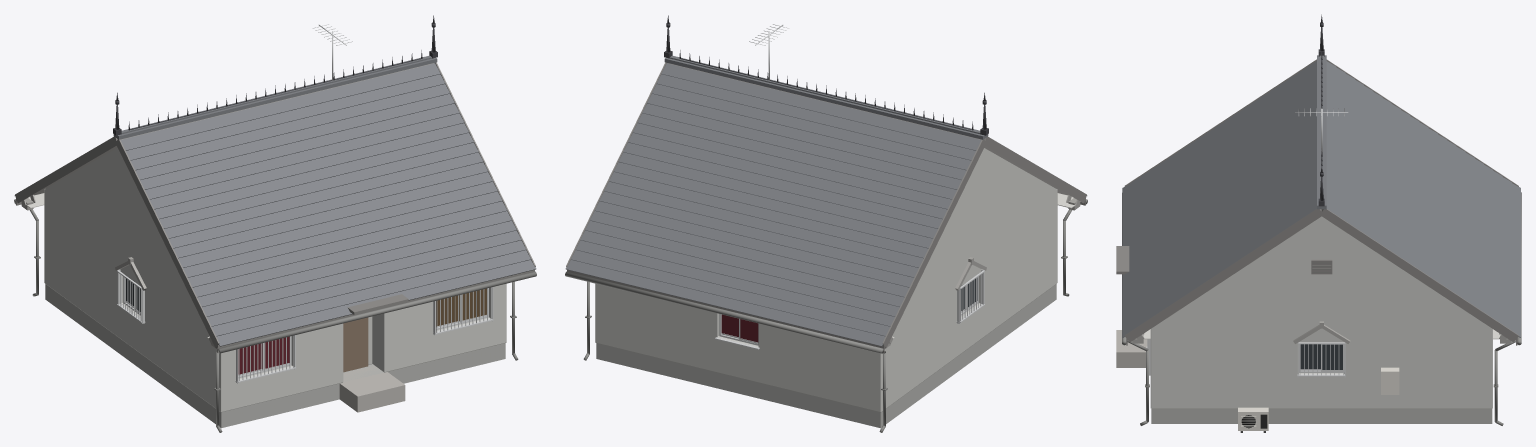
The model's file is blk_outerm1_0_3.glb.
3 views of the same model, side by side, from view 1: azimuth 30°, elevation 25°; view 2: azimuth 150°, elevation 25°; view 3: azimuth 270°, elevation 25° (orthographic). The views are drawn at different scales.
Visible parts, largest first — view 1: blk_outerm1_0_3; view 2: blk_outerm1_0_3; view 3: blk_outerm1_0_3.
Boxes of the visible parts, x1,y1,x2,y2 form: blk_outerm1_0_3: (14,15,536,432); blk_outerm1_0_3: (565,15,1087,432); blk_outerm1_0_3: (1116,14,1521,432).
Bounding box in the file's own units: 9.54 × 7.97 × 10.65.
